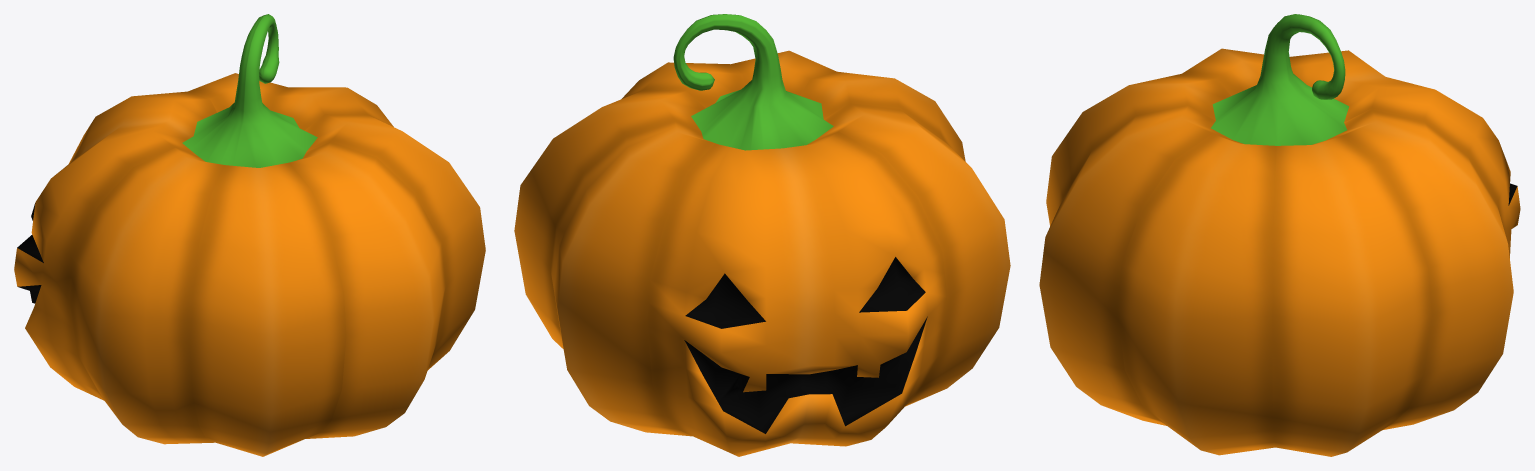
The model's file is pumpkin.fbx.
The picture shows the model from 3 angles, left to right: view 1: azimuth 30°, elevation 25°; view 2: azimuth 150°, elevation 25°; view 3: azimuth 270°, elevation 25°; orthographic projection. The views are drawn at different scales.
Visible parts, largest first — view 1: JackoLantern; view 2: JackoLantern; view 3: JackoLantern.
Part boxes in pixels (<box>): JackoLantern: <box>14,14,485,456</box>; JackoLantern: <box>514,14,1010,456</box>; JackoLantern: <box>1039,14,1520,456</box>.
Size of the model in its own units: 195 by 177 by 195.
